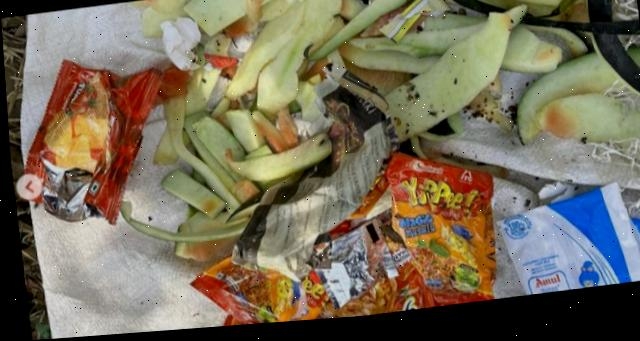Garbage: (13, 0, 640, 328), (494, 189, 640, 302)
Plastic_Bag: (493, 190, 640, 302)
Plastic_wraper: (187, 157, 491, 329), (14, 59, 159, 224)
